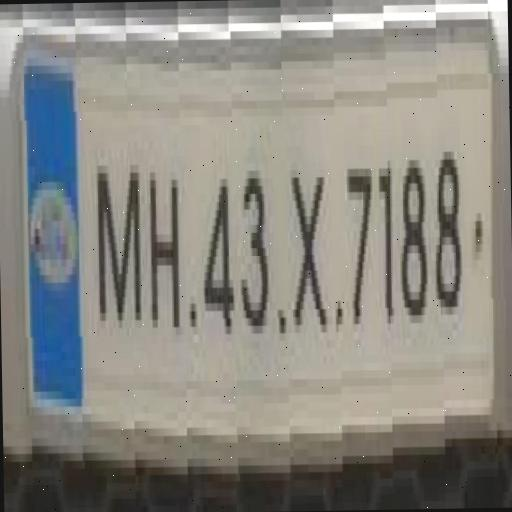number plate: (5, 57, 512, 454)
